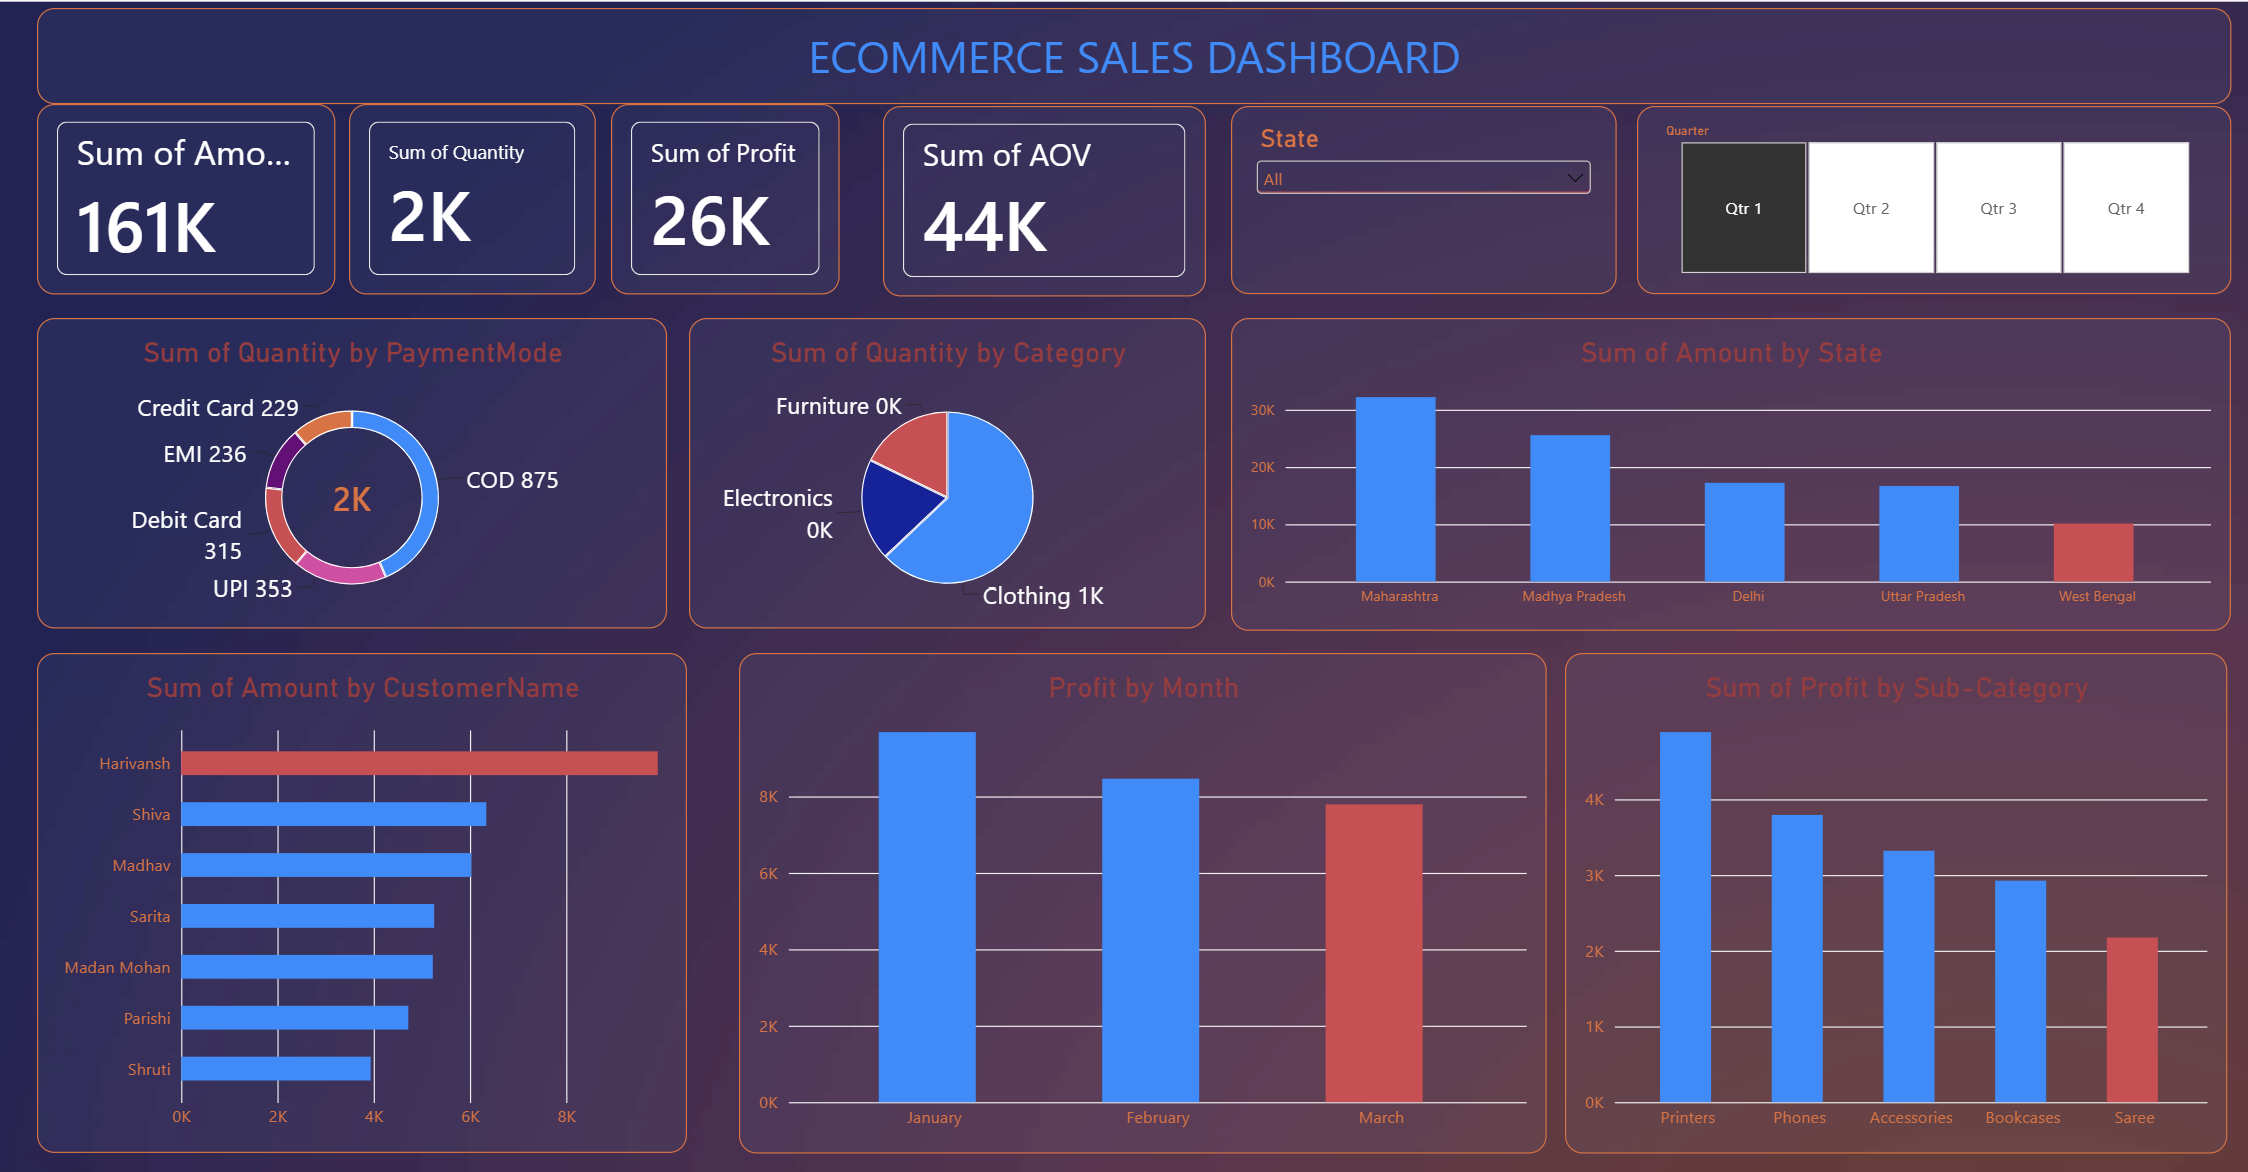

What the dashboard file says about the page in this screenshot:
{"tool":"powerbi","page":{"name":"Page 1","canvas":[1920,1080],"ordinal":0},"visuals":[{"type":"textbox","box":[32.5,40.2,1872.2,82.2],"z":0},{"type":"clusteredColumnChart","title":"Profit by Month","fields":{"Category":["Orders.Order Date.Variation.Date Hierarchy.Month"],"Y":["Sum(Details.Profit)"]},"box":[631.6,590.2,689,427.2],"z":1000},{"type":"clusteredColumnChart","fields":{"Category":["Details.Sub-Category"],"Y":["Sum(Details.Profit)"]},"box":[1336.7,590.2,565,427.2],"z":1001},{"type":"pieChart","fields":{"Category":["Details.Category"],"Y":["Sum(Details.Quantity)"]},"box":[587.9,305.5,441,264.1],"z":1002},{"type":"donutChart","fields":{"Category":["Details.PaymentMode"],"Y":["Sum(Details.Quantity)"]},"box":[32.5,306,537.4,263.9],"z":1003},{"type":"cardVisual","fields":{"Data":["Sum(Details.Amount)"]},"box":[32.5,122.4,254.3,162.5],"z":1004},{"type":"cardVisual","fields":{"Data":["Sum(Details.Quantity)"]},"box":[298.3,122.4,210.4,162.5],"z":1005},{"type":"cardVisual","fields":{"Data":["Sum(Details.AOV)"]},"box":[753.5,124.3,275.4,162.5],"z":1006},{"type":"cardVisual","fields":{"Data":["Sum(Details.Profit)"]},"box":[522.1,122.4,195.1,162.5],"z":1007},{"type":"clusteredColumnChart","fields":{"Category":["Orders.State"],"Y":["Sum(Details.Amount)"]},"box":[1051.8,306,852.9,265.8],"z":1008},{"type":"barChart","fields":{"Category":["Orders.CustomerName"],"Y":["Sum(Details.Amount)"]},"box":[32.5,590.9,554.6,426.5],"z":1009},{"type":"slicer","fields":{"Values":["Orders.State"]},"box":[1051.8,124.3,328.9,160.6],"z":1010},{"type":"slicer","fields":{"Values":["Orders.Order Date.Variation.Date Hierarchy.Quarter"]},"box":[1397.9,124.3,506.8,160.6],"z":1011}]}

Visuals, with their boxes on the page's 1920x1080 design canvas (x1, y1, x2, y2). These are canvas units, not pixel positions in the 2248x1172 screenshot, which may show the page scaled, cropped or inside an application window:
textbox: (32,40,1905,122)
"Profit by Month" clusteredColumnChart: (632,590,1321,1017)
clusteredColumnChart - Details.Sub-Category x Sum(Details.Profit): (1337,590,1902,1017)
pieChart - Details.Category x Sum(Details.Quantity): (588,306,1029,570)
donutChart - Details.PaymentMode x Sum(Details.Quantity): (32,306,570,570)
cardVisual - Sum(Details.Amount): (32,122,287,285)
cardVisual - Sum(Details.Quantity): (298,122,509,285)
cardVisual - Sum(Details.AOV): (754,124,1029,287)
cardVisual - Sum(Details.Profit): (522,122,717,285)
clusteredColumnChart - Orders.State x Sum(Details.Amount): (1052,306,1905,572)
barChart - Orders.CustomerName x Sum(Details.Amount): (32,591,587,1017)
slicer - Orders.State: (1052,124,1381,285)
slicer - Orders.Order Date.Variation.Date Hierarchy.Quarter: (1398,124,1905,285)
